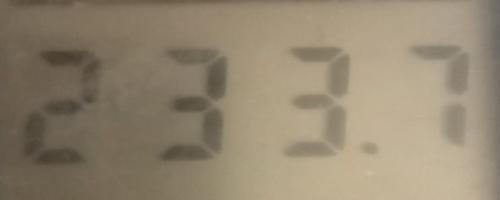.: (359, 138, 378, 155)
